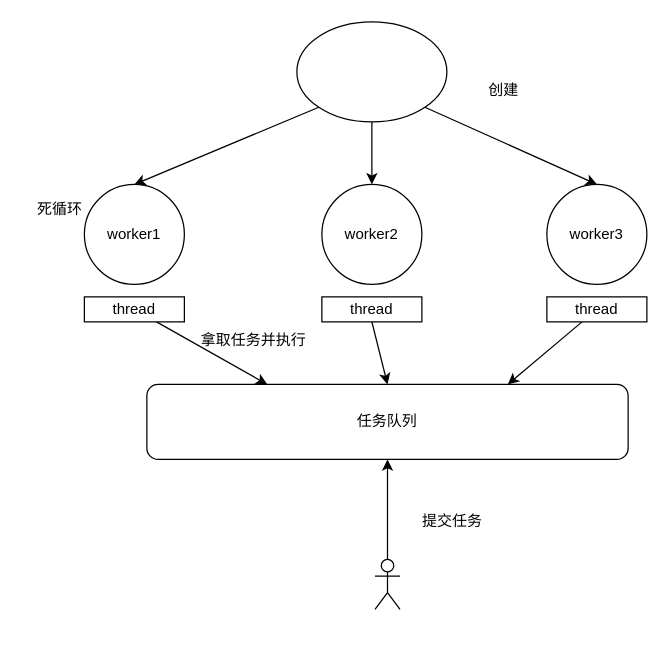
Some shapes in this 669 by 658 pixel diagram are drawn without their labels. The centre of each missing label's shape, as x and y in pixels:
客户端（用户）: the point at 387,583
线程池: the point at 371,71
